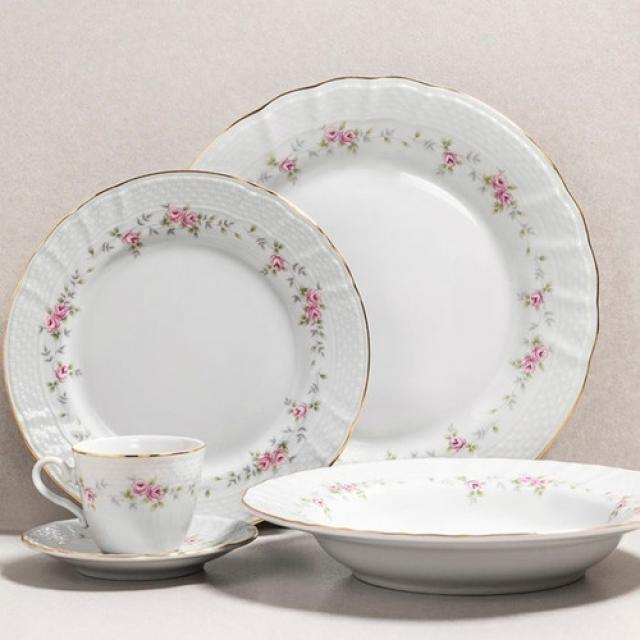non-organic waste: (178, 46, 555, 483), (32, 174, 324, 547), (266, 402, 640, 640)
